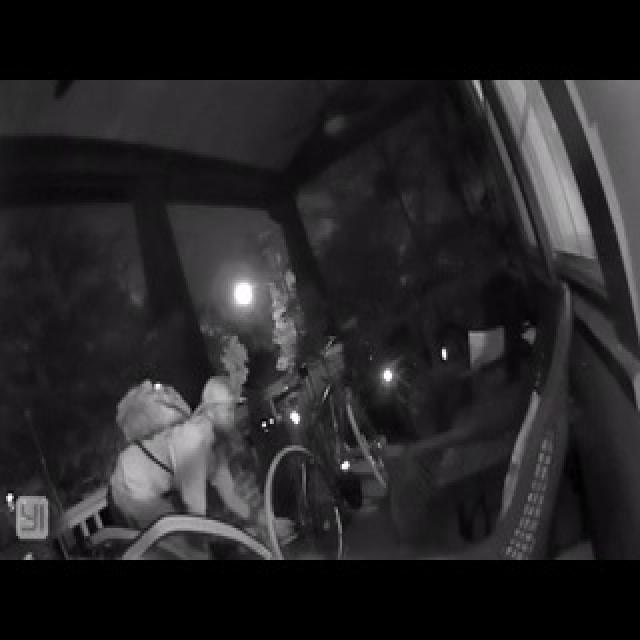thief: (109, 370, 258, 520)
